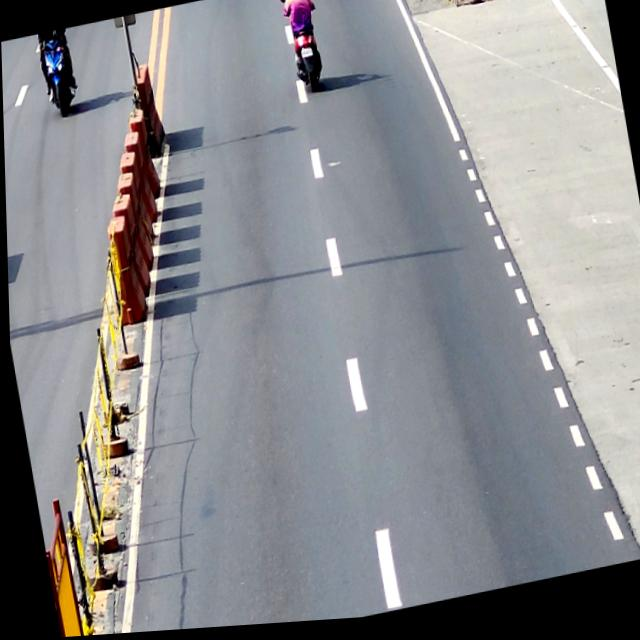License-Plate: (300, 49, 315, 64)
Motorcycle: (278, 0, 331, 106), (37, 31, 82, 122)
